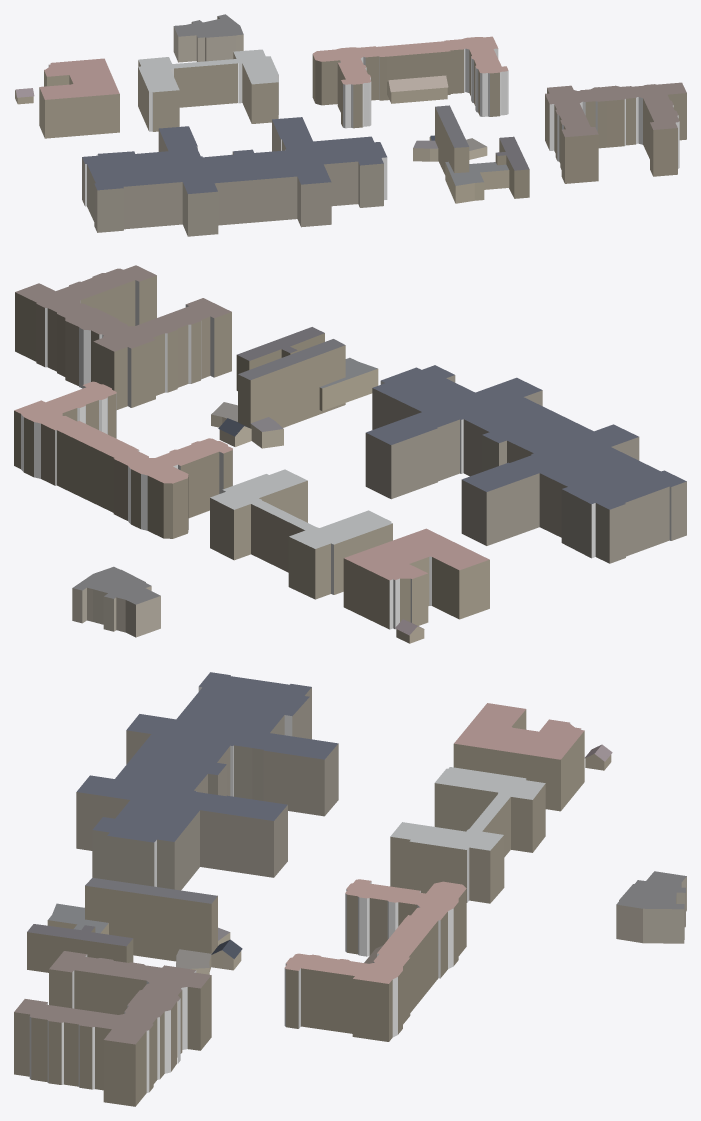
3 renders of one model, top to bottom at view 1: azimuth 30°, elevation 25°; view 2: azimuth 150°, elevation 25°; view 3: azimuth 270°, elevation 25°, orthographic. The views are drawn at different scales.
Visible parts, largest first — view 1: tuile; view 2: tuile; view 3: tuile.
Boxes of the visible parts, x1,y1,x2,y2 form: tuile: [15, 14, 686, 236]; tuile: [14, 265, 686, 643]; tuile: [14, 672, 686, 1106].
Size of the model in its own units: 284 by 27.45 by 223.
